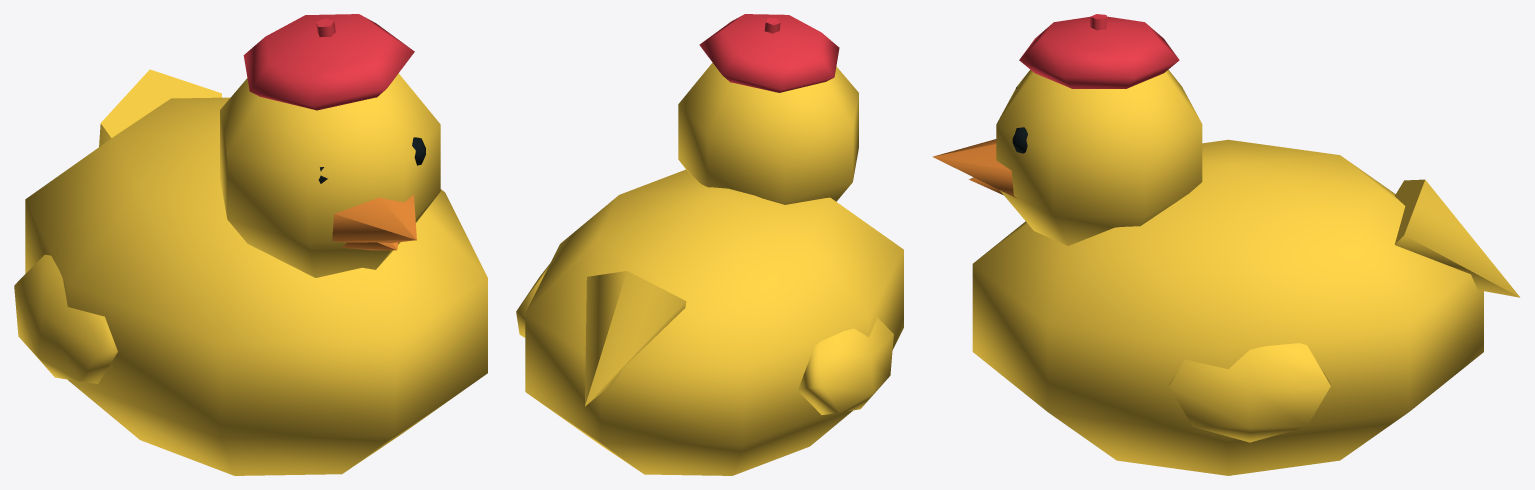
The model's file is duck-beret.glb.
3 views of the same model, side by side, from view 1: azimuth 30°, elevation 25°; view 2: azimuth 150°, elevation 25°; view 3: azimuth 270°, elevation 25° (orthographic). The views are drawn at different scales.
Parts seen in each view (by area): view 1: CouncilDuck_beret; view 2: CouncilDuck_beret; view 3: CouncilDuck_beret.
Boxes of the visible parts, x1,y1,x2,y2 form: CouncilDuck_beret: (14, 14, 487, 475); CouncilDuck_beret: (516, 14, 903, 475); CouncilDuck_beret: (932, 14, 1520, 475).
Bounding box in the file's own units: 2.46 × 2.68 × 3.29.
